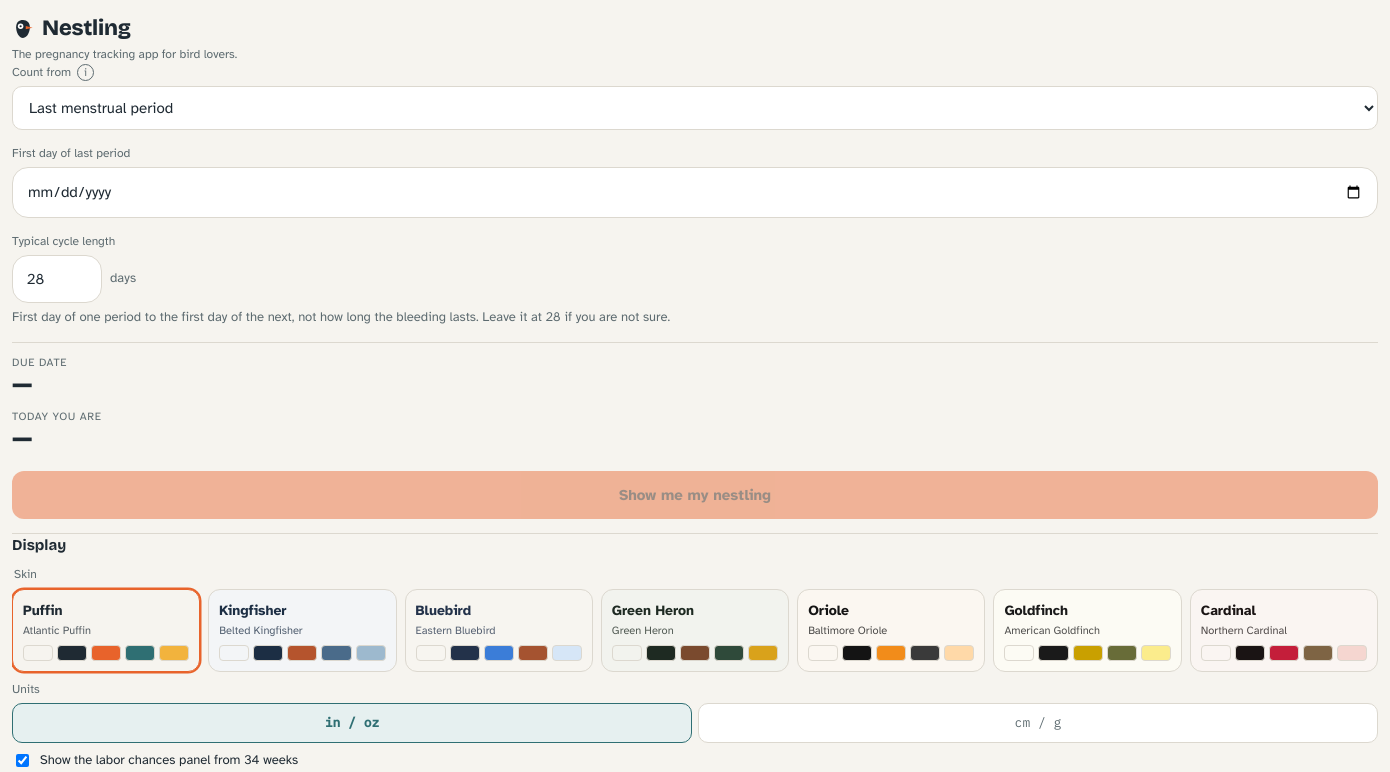
Setup screen (mockup 1) › relabels the date field and derives the period date in due-date mode
Type "2026-03-29" into the date field labelled "First day of last period". click: (695, 192)
box: [12,167,1378,218]
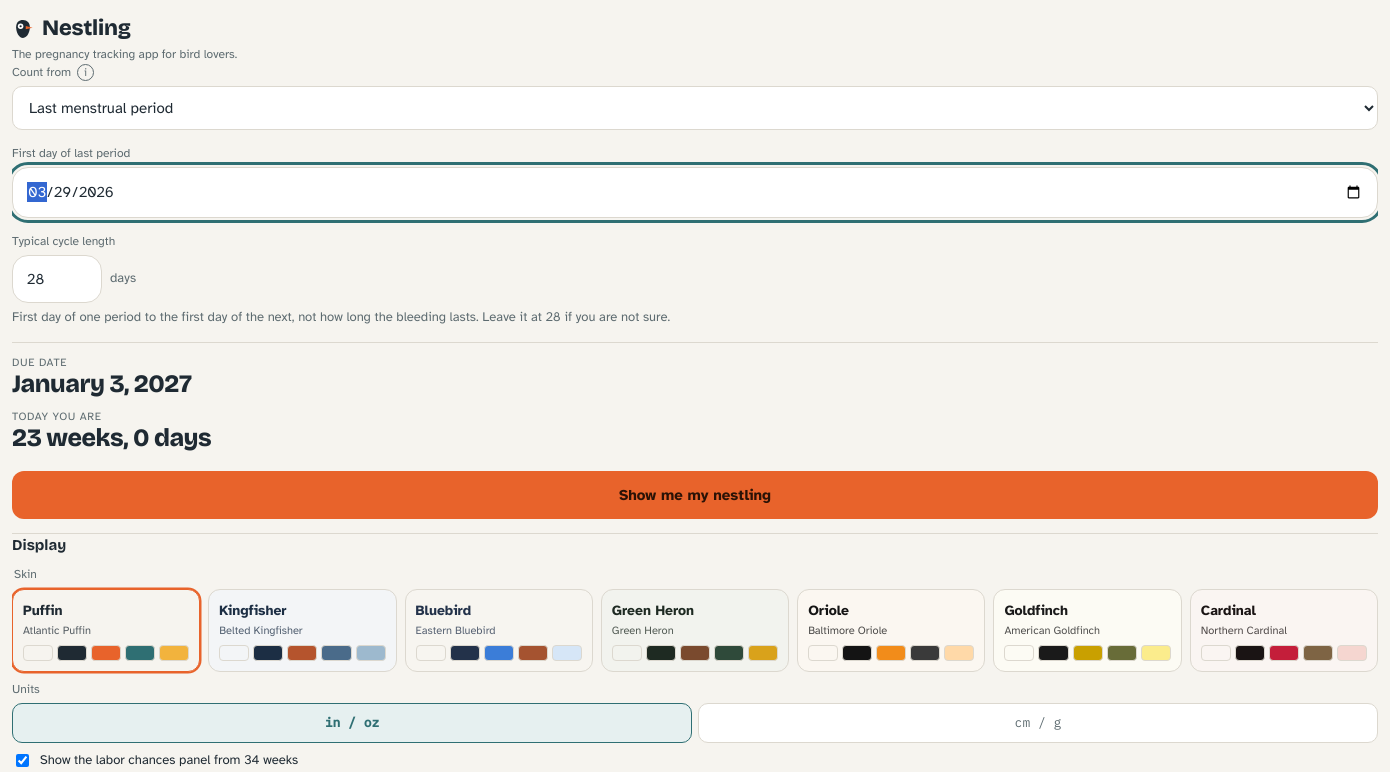
Select "Enter my due date" in the dropdown labelled "Count from". click: (695, 108)
box: [12,86,1378,130]
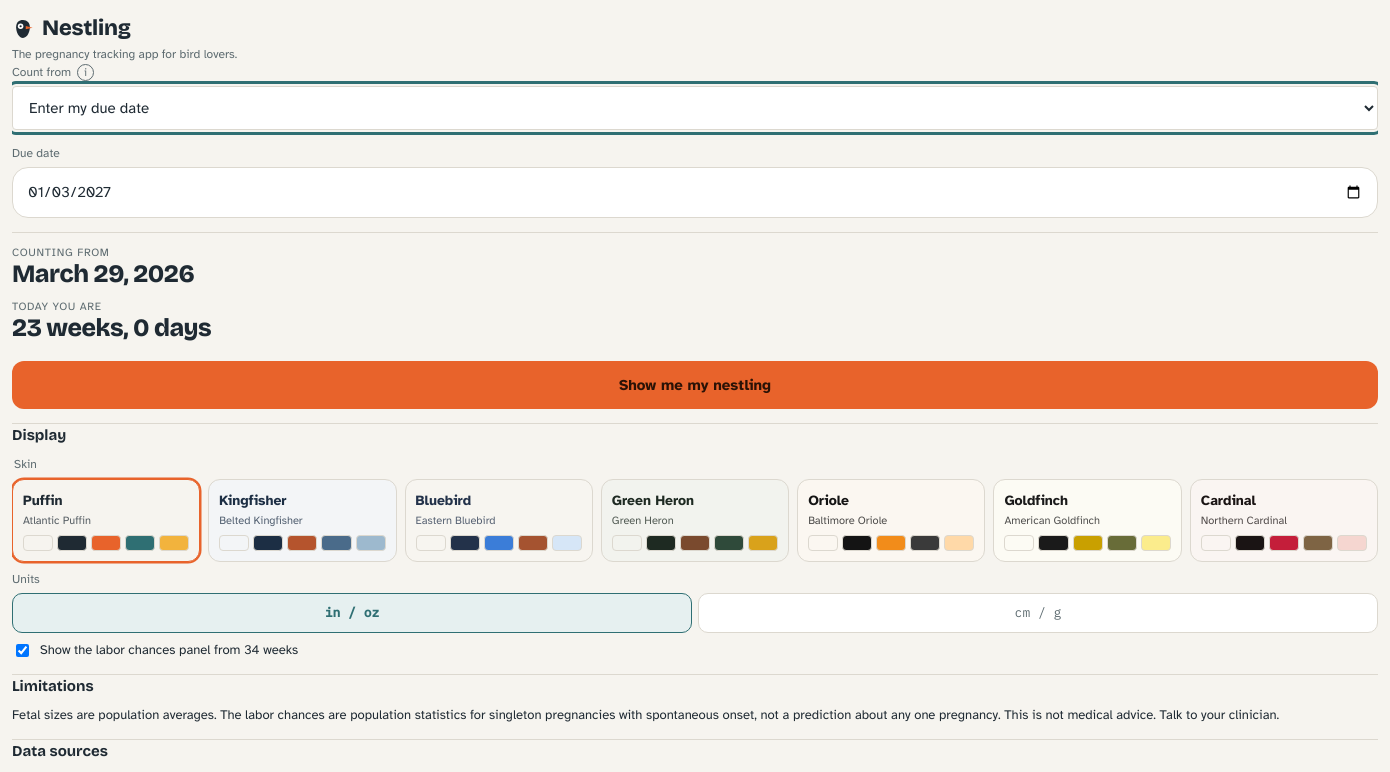
Expected: the date field labelled "Due date" holds "2027-01-03", [12,167,1378,218]
Expected: the text "Counting from" is shown, [12,246,110,258]
Expected: the text "March 29, 2026" is shown, [12,259,194,289]
